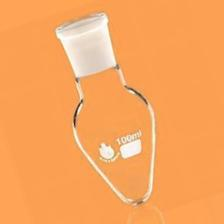Pear shaped flask: (56, 17, 160, 207)
